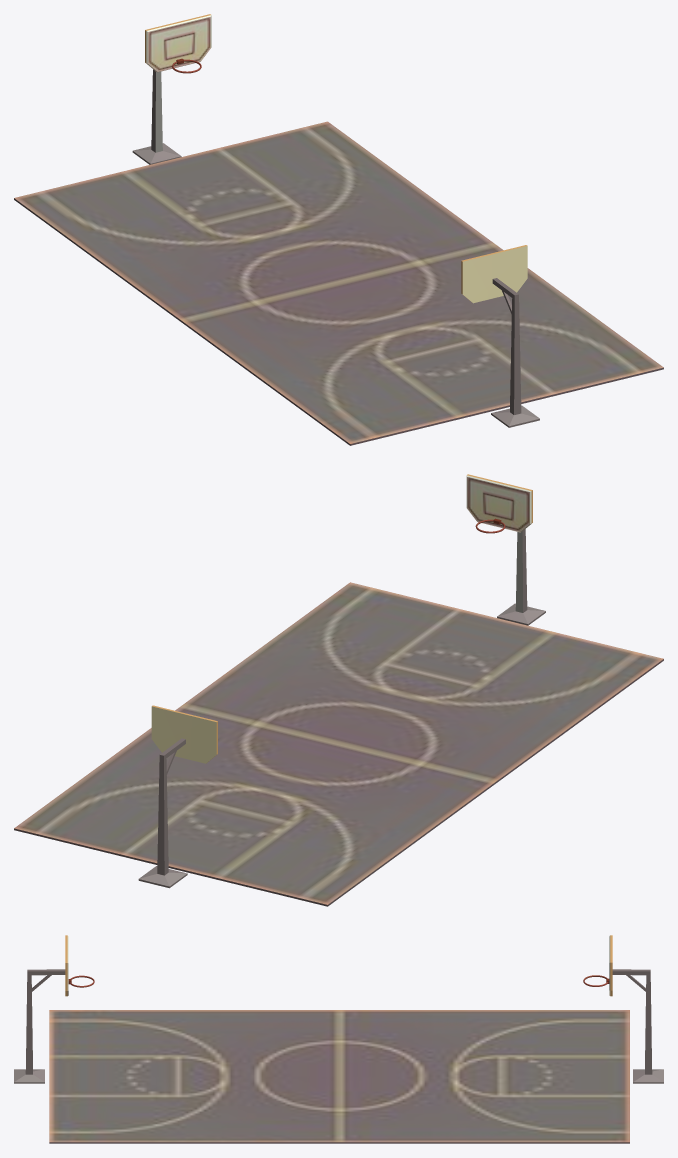
File: court.glb
3 renders of one model, top to bottom at view 1: azimuth 30°, elevation 25°; view 2: azimuth 150°, elevation 25°; view 3: azimuth 270°, elevation 25°, orthographic. The views are drawn at different scales.
Visible parts, largest first — view 1: basketball_court; view 2: basketball_court; view 3: basketball_court.
Part boxes in pixels (<box>): basketball_court: <box>14,14,663,445</box>; basketball_court: <box>14,474,663,906</box>; basketball_court: <box>14,935,663,1143</box>.
Size of the model in its own units: 2.65 by 1.2 by 5.5.
Materials: 1 (1 with a texture image).
